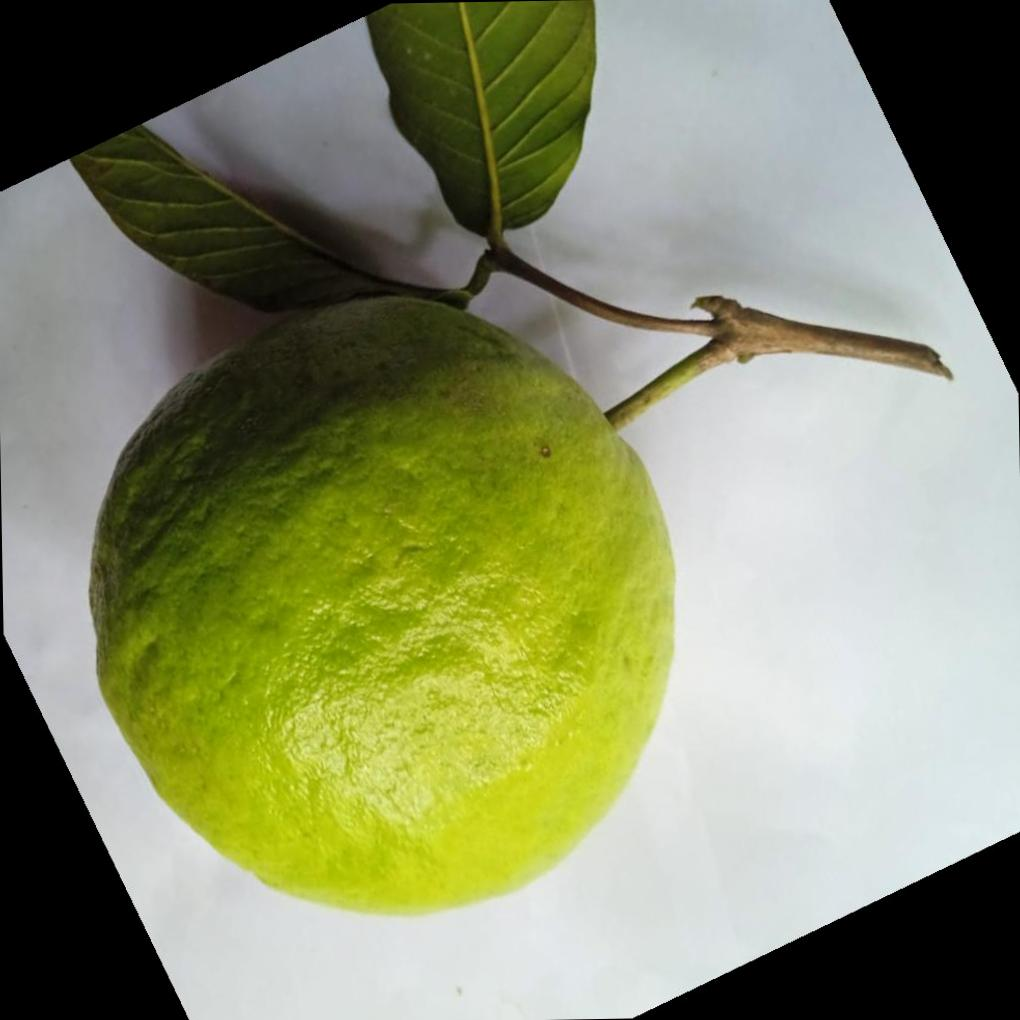FreshGuava: (84, 281, 677, 915)
